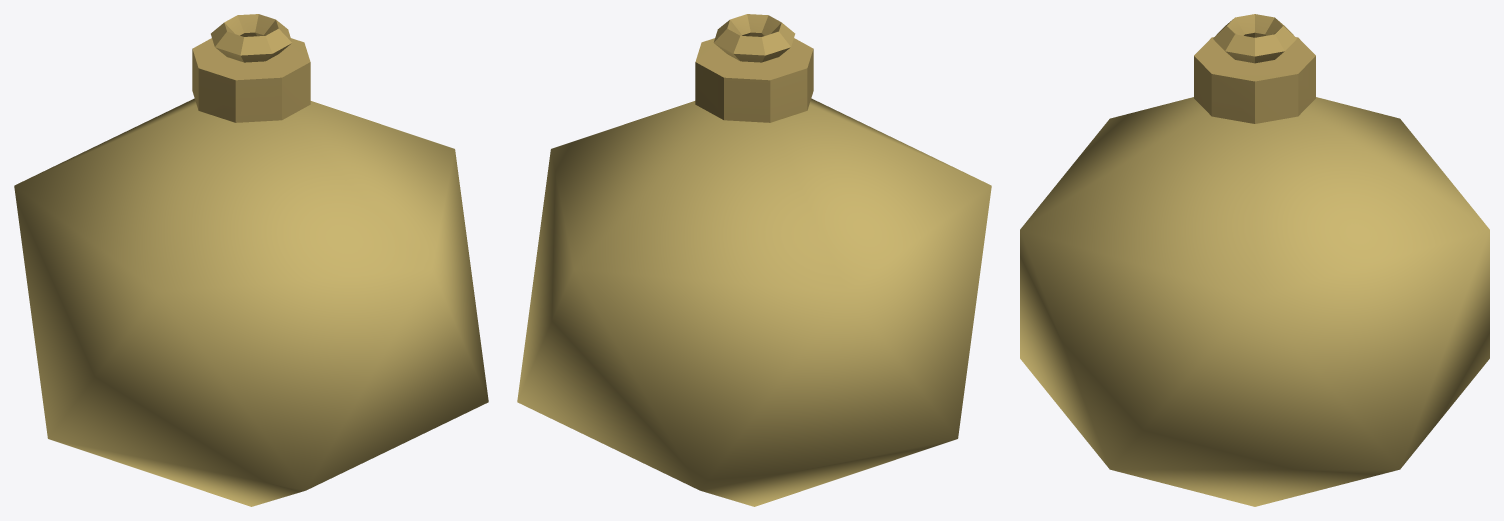
Rendered from resident_bauble_gold_low.glb.
The picture shows the model from 3 angles, left to right: view 1: azimuth 30°, elevation 25°; view 2: azimuth 150°, elevation 25°; view 3: azimuth 270°, elevation 25°; orthographic projection.
Bounding box in the file's own units: 1 × 1.13 × 1.
